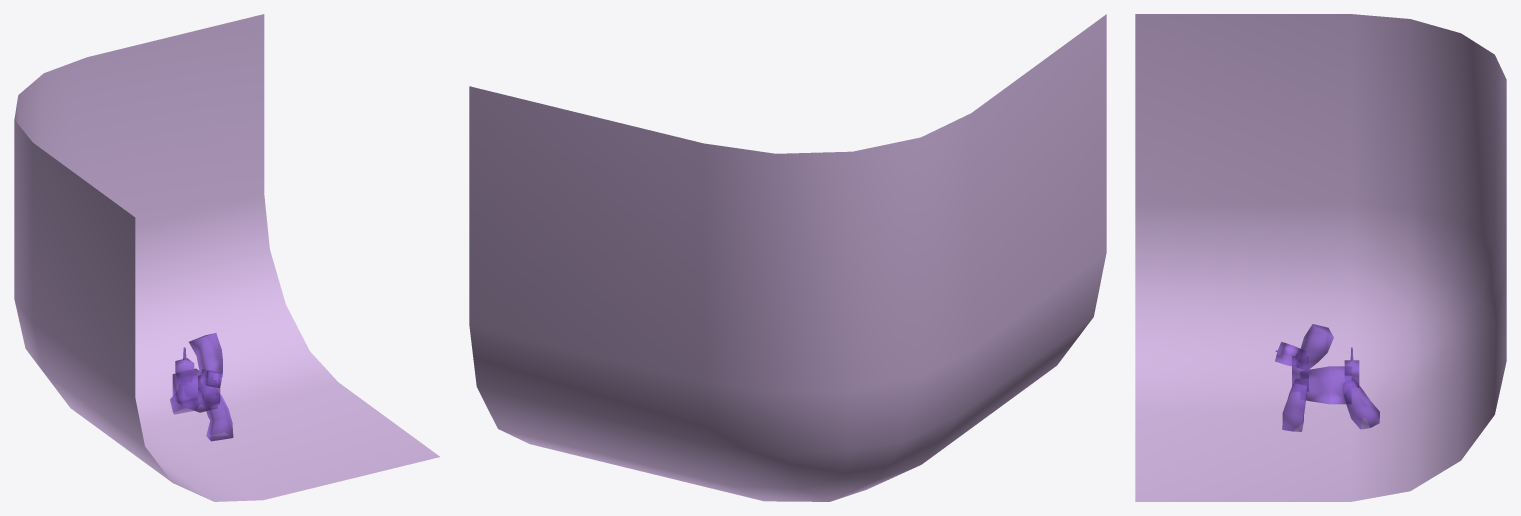
3 views of the same model, side by side, from view 1: azimuth 30°, elevation 25°; view 2: azimuth 150°, elevation 25°; view 3: azimuth 270°, elevation 25° (orthographic). The views are drawn at different scales.
Parts seen in each view (by area): view 1: 平面, Cube, Cube.006, Cube.001, Cube.003; view 2: 平面; view 3: 平面, Cube, Cube.002, Cube.006, Cube.001, Cube.005, Cube.003, Cube.004.
Boxes of the visible parts, left/top/right/bottom form: 平面: left=14, top=14, right=439, bottom=501; Cube: left=172, top=368, right=217, bottom=412; Cube.006: left=189, top=333, right=222, bottom=383; Cube.001: left=205, top=394, right=233, bottom=441; Cube.003: left=198, top=375, right=220, bottom=407; 平面: left=469, top=14, right=1106, bottom=501; 平面: left=1135, top=14, right=1506, bottom=501; Cube: left=1300, top=366, right=1351, bottom=404; Cube.002: left=1342, top=378, right=1379, bottom=429; Cube.006: left=1293, top=324, right=1333, bottom=370; Cube.001: left=1282, top=379, right=1306, bottom=431; Cube.005: left=1275, top=342, right=1305, bottom=366; Cube.003: left=1292, top=356, right=1308, bottom=391; Cube.004: left=1344, top=347, right=1359, bottom=387.
Bounding box in the file's own units: 26.55 × 26.18 × 26.55.
